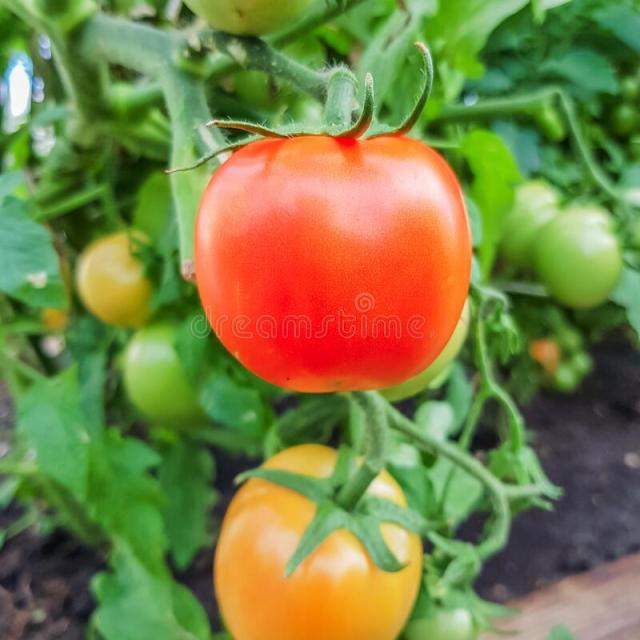kirmizi: (194, 82, 464, 412)
sari: (194, 410, 454, 640)
